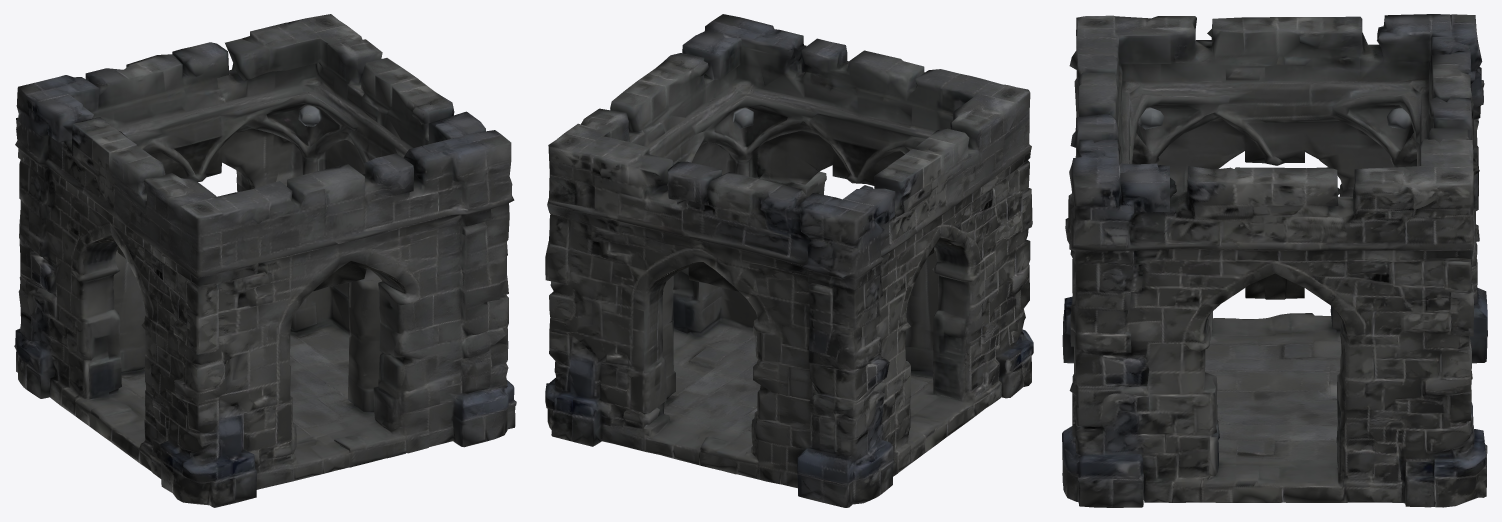
Rendered from mod_corner.glb.
3 renders of one model, left to right at view 1: azimuth 30°, elevation 25°; view 2: azimuth 150°, elevation 25°; view 3: azimuth 270°, elevation 25°, orthographic. The views are drawn at different scales.
Visible parts, largest first — view 1: tripo_node_8c5739aa-f84c-4d8b-8e59-f022d221bb8c; view 2: tripo_node_8c5739aa-f84c-4d8b-8e59-f022d221bb8c; view 3: tripo_node_8c5739aa-f84c-4d8b-8e59-f022d221bb8c.
Part boxes in pixels (box(x1,y1,x2,y2)): tripo_node_8c5739aa-f84c-4d8b-8e59-f022d221bb8c: box(14, 14, 516, 507); tripo_node_8c5739aa-f84c-4d8b-8e59-f022d221bb8c: box(545, 14, 1033, 507); tripo_node_8c5739aa-f84c-4d8b-8e59-f022d221bb8c: box(1062, 14, 1487, 507).
Size of the model in its own units: 0.9951 by 0.8302 by 1.
1 material, 1 textured.
